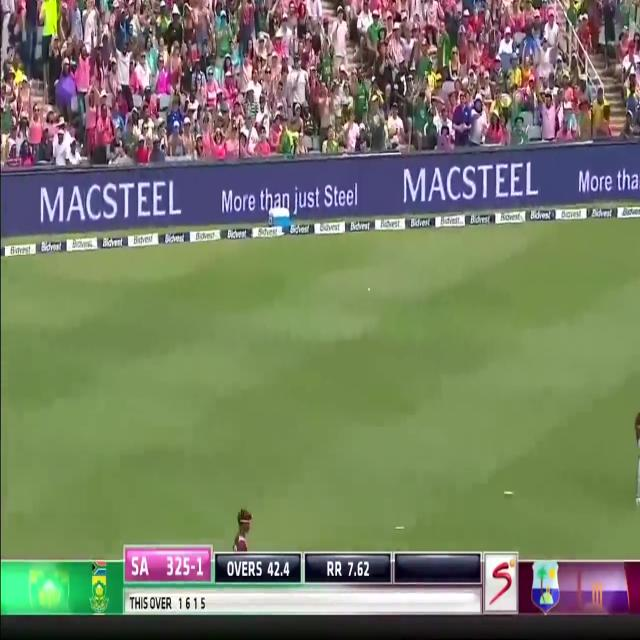Fielder: (232, 507, 253, 551)
